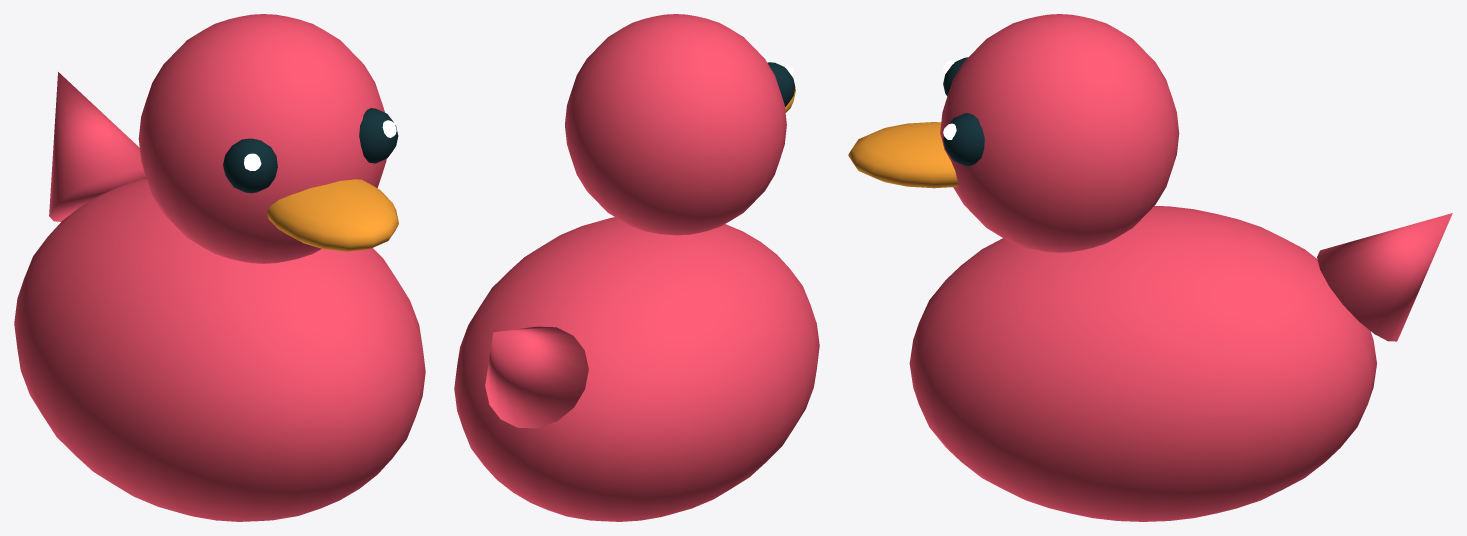
File: duck.glb
3 views of the same model, side by side, from view 1: azimuth 30°, elevation 25°; view 2: azimuth 150°, elevation 25°; view 3: azimuth 270°, elevation 25° (orthographic). The views are drawn at different scales.
Visible parts, largest first — view 1: duck; view 2: duck; view 3: duck.
Part boxes in pixels (<box>): duck: <box>14,14,425,521</box>; duck: <box>454,14,819,521</box>; duck: <box>848,14,1452,521</box>.
Bounding box in the file's own units: 0.612 × 0.88 × 1.01.
